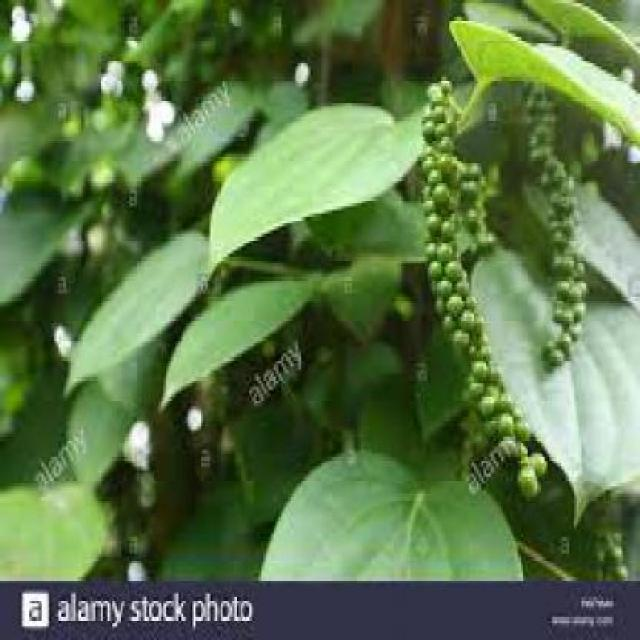UNRIPE: (408, 73, 543, 496), (543, 139, 589, 367)
